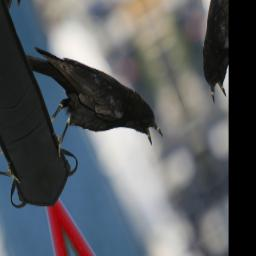Crow: (17, 0, 166, 200)
